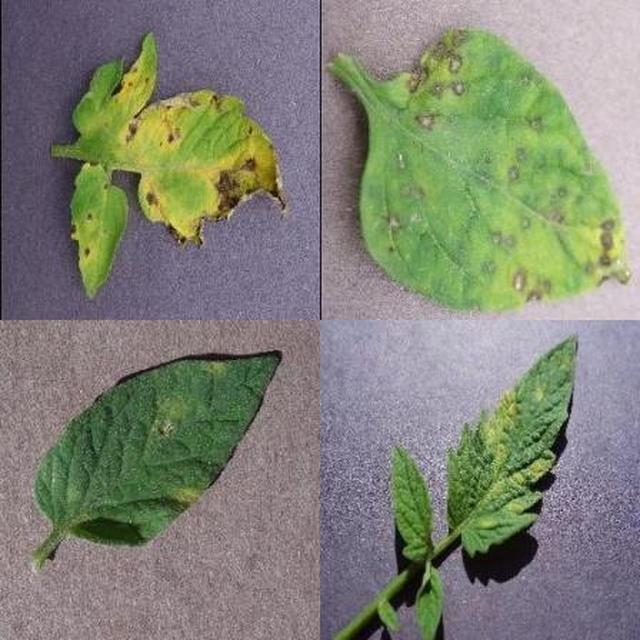Septoria Leaf: (39, 105, 640, 640)
